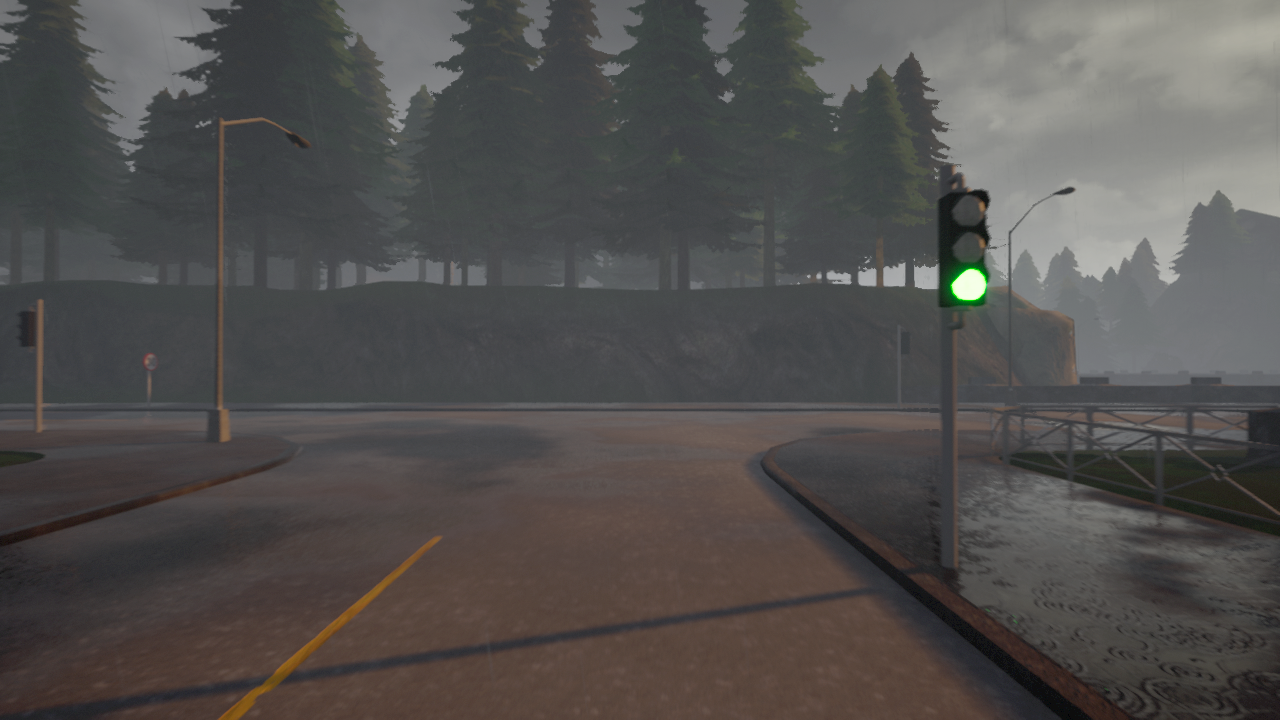green: (936, 189, 993, 310)
